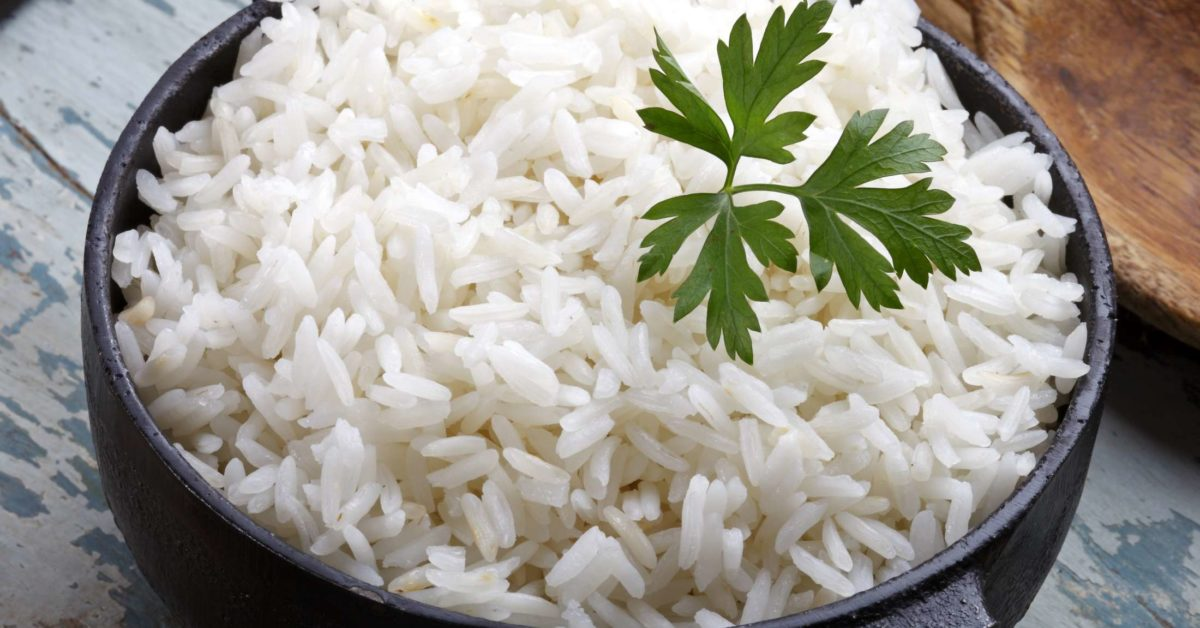rice: (209, 47, 1065, 537)
